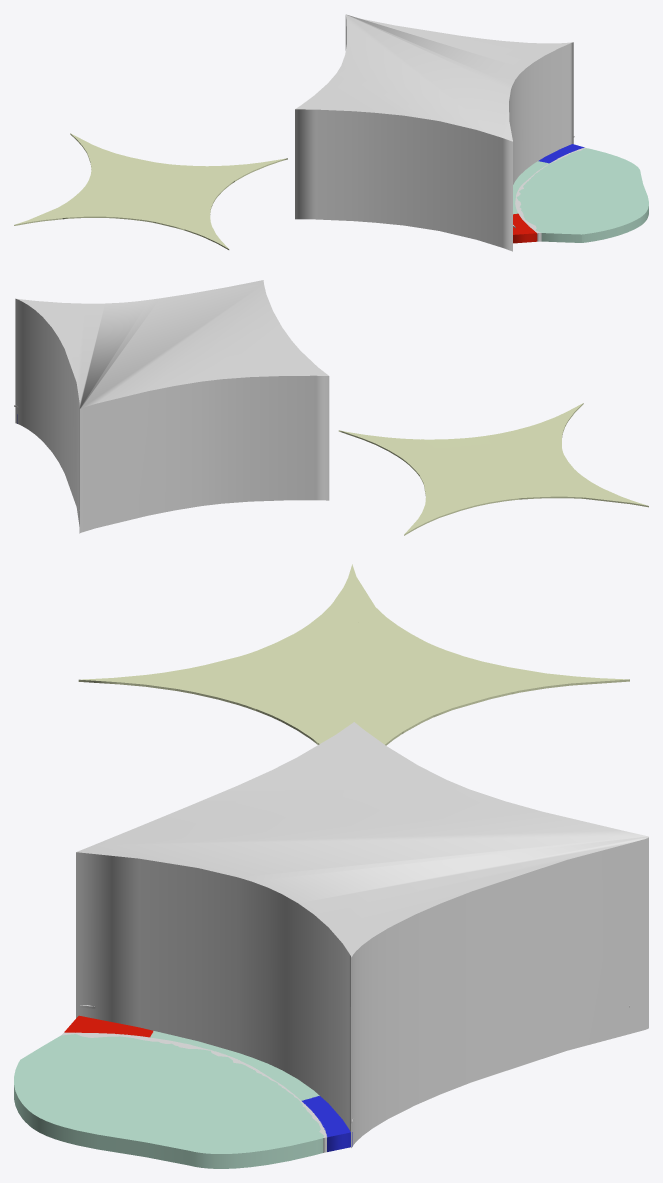
File: piece-decoupee1.glb
3 renders of one model, top to bottom at view 1: azimuth 30°, elevation 25°; view 2: azimuth 150°, elevation 25°; view 3: azimuth 270°, elevation 25°, orthographic. The views are drawn at different scales.
Parts seen in each view (by area): view 1: surface_drop, piece1, papier_extrusion13, papier_extrusion14, papier_extrusion17, papier_extrusion1, papier_extrusion15, papier_extrusion19, papier_extrusion18, papier_extrusion20, fin, papier_extrusion11 (+10 smaller); view 2: surface_drop, papier_extrusion13, papier_extrusion17, papier_extrusion14, papier_extrusion19, papier_extrusion18, papier_extrusion1, papier_extrusion15, papier_extrusion20, papier_extrusion6, papier_extrusion11, papier_extrusion7 (+8 smaller); view 3: surface_drop, piece1, papier_extrusion13, papier_extrusion17, papier_extrusion14, papier_extrusion15, papier_extrusion18, papier_extrusion19, papier_extrusion3, papier_extrusion4, papier_extrusion11, papier_extrusion6 (+10 smaller).
Boxes of the visible parts, <box> form: surface_drop: <box>295,14,573,251</box>; piece1: <box>516,148,648,242</box>; papier_extrusion13: <box>118,154,168,179</box>; papier_extrusion14: <box>112,172,159,195</box>; papier_extrusion17: <box>70,133,119,172</box>; papier_extrusion1: <box>212,158,287,181</box>; papier_extrusion15: <box>92,190,147,209</box>; papier_extrusion19: <box>58,186,111,207</box>; papier_extrusion18: <box>85,163,118,190</box>; papier_extrusion20: <box>14,206,90,225</box>; fin: <box>513,213,537,243</box>; papier_extrusion11: <box>129,195,171,214</box>; surface_drop: <box>15,280,329,533</box>; papier_extrusion13: <box>420,471,467,502</box>; papier_extrusion17: <box>404,492,466,535</box>; papier_extrusion14: <box>461,467,512,492</box>; papier_extrusion19: <box>513,483,583,499</box>; papier_extrusion18: <box>460,484,519,510</box>; papier_extrusion1: <box>338,430,434,451</box>; papier_extrusion15: <box>504,467,561,484</box>; papier_extrusion20: <box>563,484,648,507</box>; papier_extrusion6: <box>436,444,497,459</box>; papier_extrusion11: <box>498,451,547,467</box>; papier_extrusion7: <box>492,437,541,455</box>; surface_drop: <box>76,722,648,1147</box>; piece1: <box>14,1034,324,1168</box>; papier_extrusion13: <box>387,676,511,717</box>; papier_extrusion17: <box>449,667,629,694</box>; papier_extrusion14: <box>342,656,448,695</box>; papier_extrusion15: <box>308,629,389,674</box>; papier_extrusion18: <box>390,642,506,675</box>; papier_extrusion19: <box>350,607,426,655</box>; papier_extrusion3: <box>176,678,277,710</box>; papier_extrusion4: <box>78,668,219,690</box>; papier_extrusion11: <box>262,650,340,687</box>; papier_extrusion6: <box>278,688,359,727</box>.
Bounding box in the file's own units: 0.5002 × 0.0966 × 0.2713.
